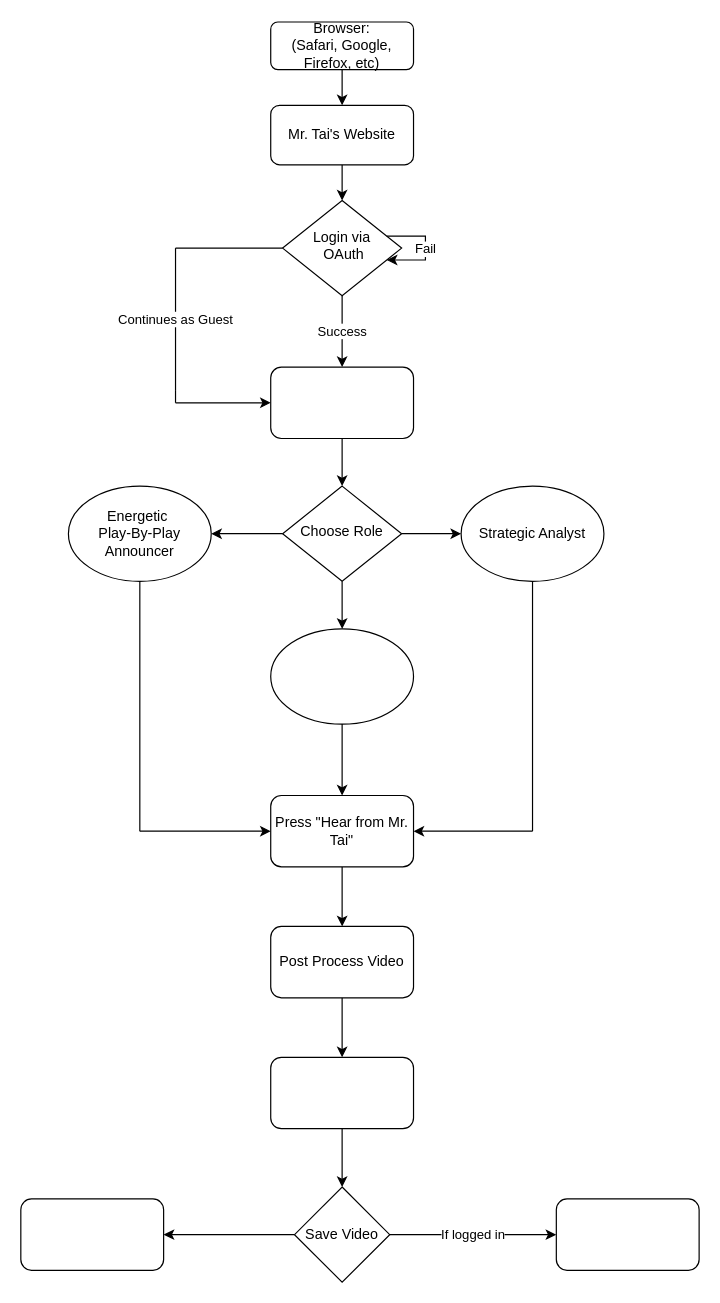
This 720x1303 diagram has some shape labels left out. The centre of each missing label's shape, as x and y in pixels:
Comedic Color Commentator: the point at 342,676
Display Processed Video: the point at 342,1092
Save to account: the point at 627,1234
Save to device: the point at 92,1234
Upload Video: the point at 342,402
